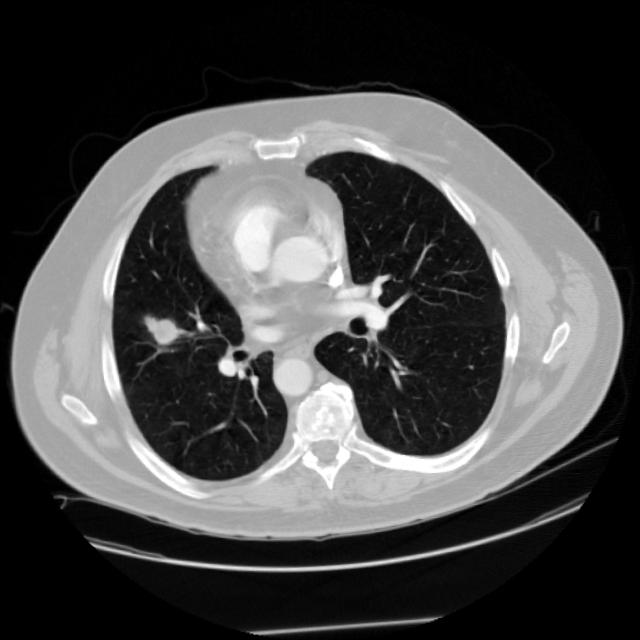nodule: (132, 296, 198, 362)
